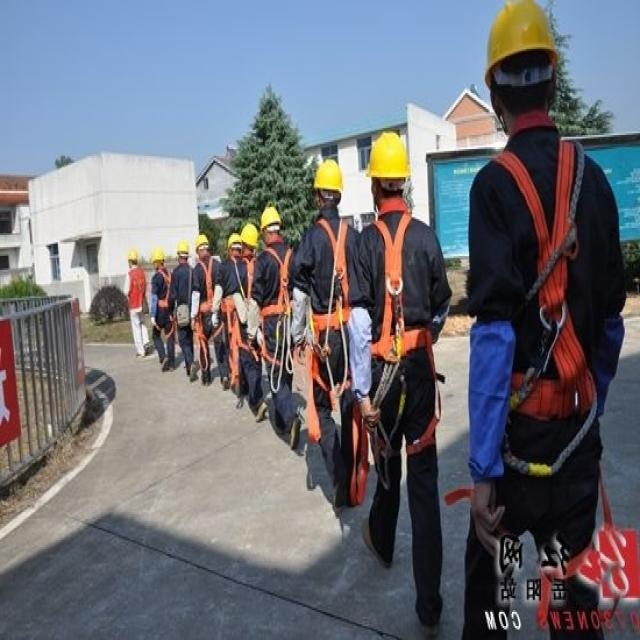Con_Casco: (486, 0, 559, 122), (366, 130, 411, 207), (315, 157, 343, 208)
